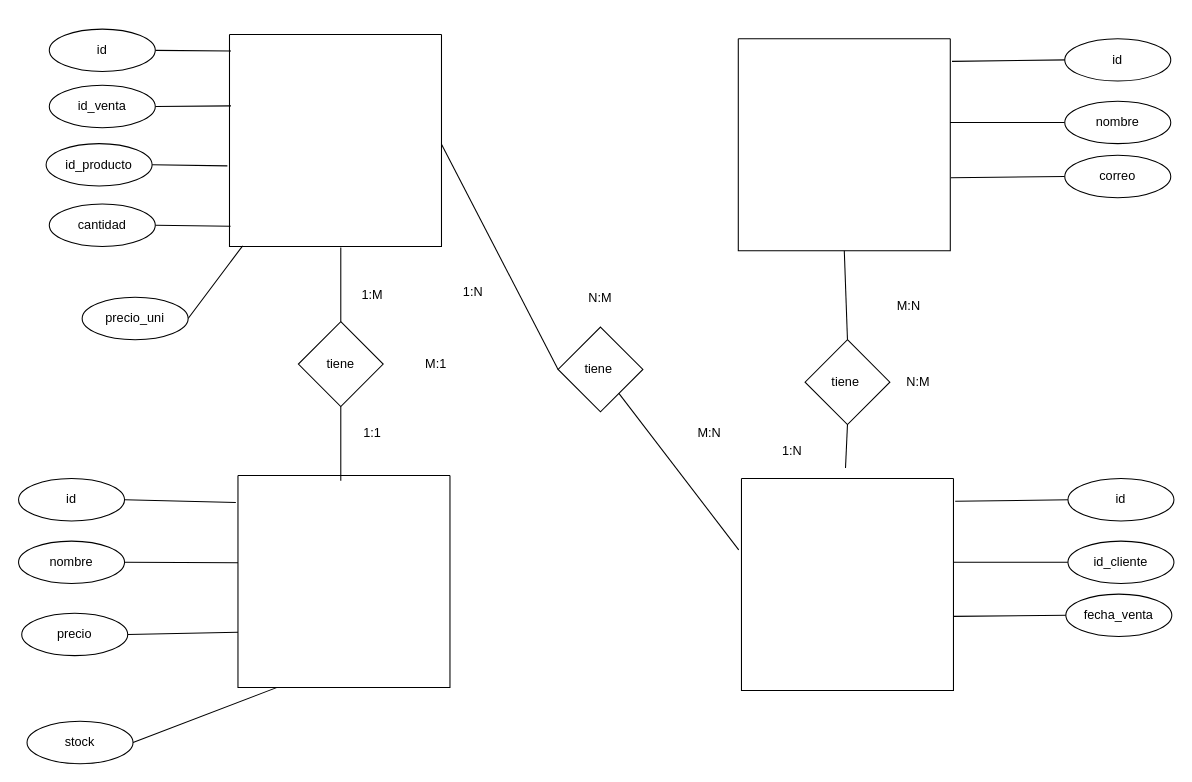
This 1192x782 diagram has some shape labels left out. The centre of each missing label's shape, as x and y in pixels:
Cliente: the point at 843,144
DetalleVenta: the point at 334,139
Producto: the point at 343,580
venta: the point at 846,584
